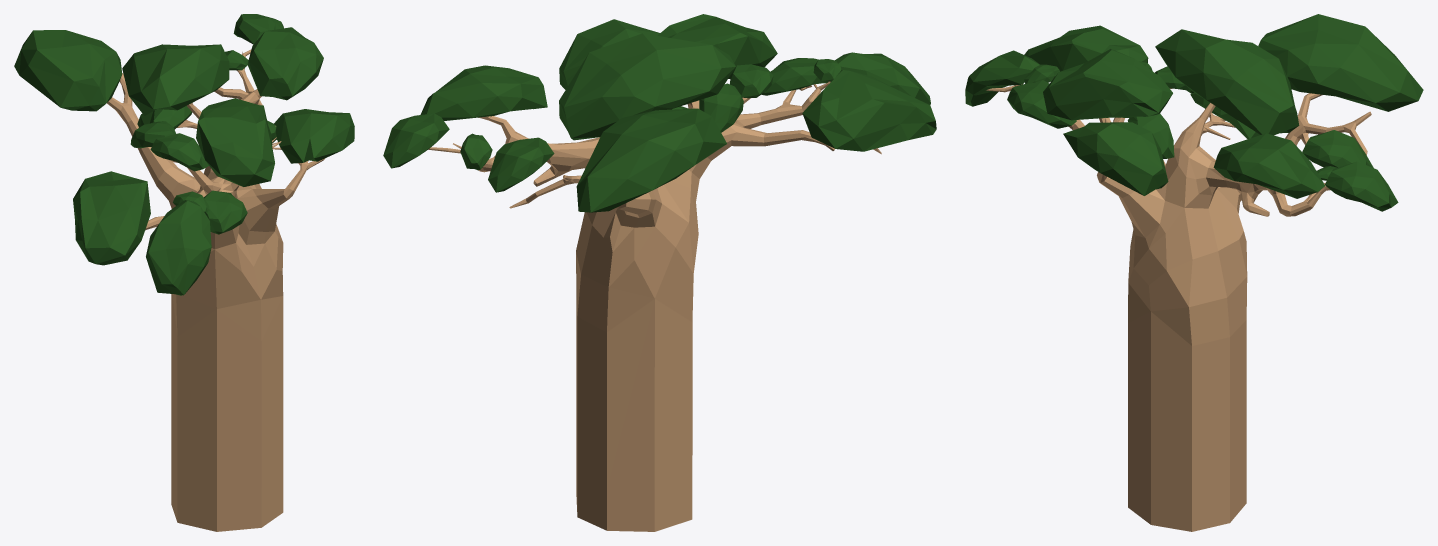
The model's file is Baobab.fbx.
The picture shows the model from 3 angles, left to right: view 1: azimuth 30°, elevation 25°; view 2: azimuth 150°, elevation 25°; view 3: azimuth 270°, elevation 25°; orthographic projection. The views are drawn at different scales.
Size of the model in its own units: 866 by 1071 by 985.
